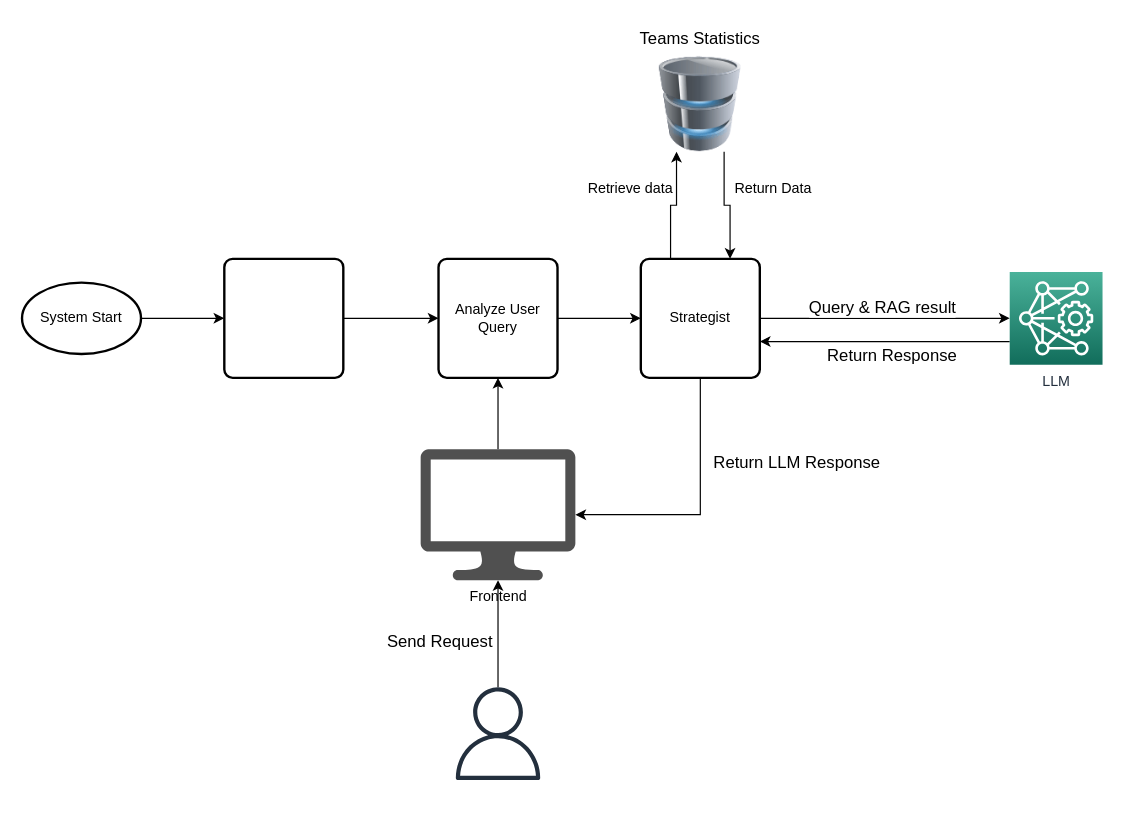
Some shapes in this 1123 by 825 pixel diagram are drawn without their labels. The shapes that lost their labels are listed below. From the top down, each one's centre as x and y in pixels, then its label:
the point at 699,103: RAG
the point at 283,317: Initialization
the point at 497,733: User
